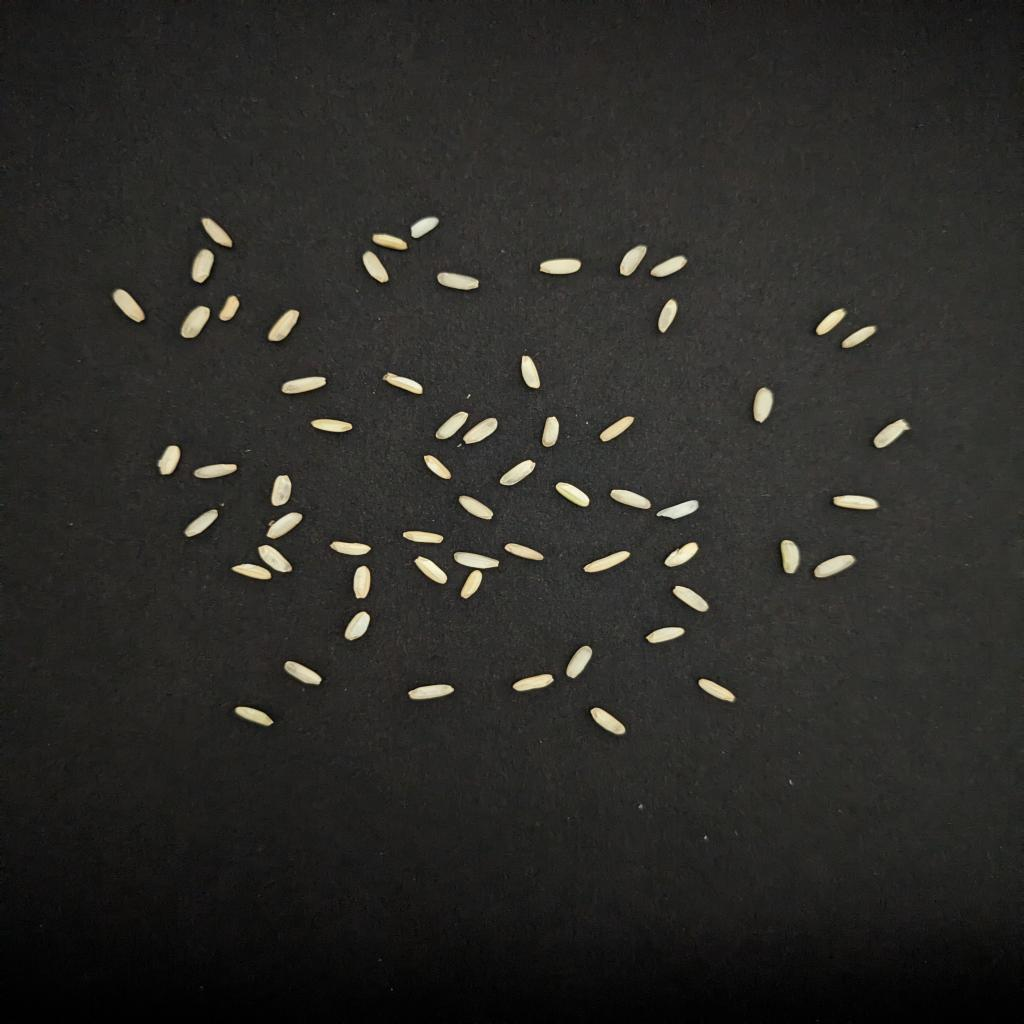chalky: (112, 290, 146, 322), (874, 420, 911, 448), (266, 512, 304, 538), (591, 708, 626, 736), (434, 412, 469, 440), (285, 660, 322, 686), (815, 554, 855, 578), (583, 552, 631, 572), (184, 510, 218, 538), (269, 310, 298, 342), (181, 306, 210, 338), (599, 416, 634, 442), (674, 586, 709, 612), (463, 418, 498, 444), (258, 546, 293, 572), (202, 218, 232, 248), (815, 308, 847, 336), (698, 678, 735, 702), (501, 460, 535, 486), (384, 372, 424, 394), (416, 556, 447, 584), (362, 250, 389, 282), (610, 490, 653, 510), (663, 542, 698, 566), (458, 496, 493, 520), (621, 244, 647, 276), (565, 646, 591, 678), (192, 250, 216, 284), (650, 256, 687, 278), (234, 706, 274, 726), (282, 376, 325, 394), (557, 482, 589, 506), (437, 272, 479, 290), (842, 326, 876, 348), (344, 612, 370, 640), (834, 494, 879, 510), (658, 500, 698, 518), (514, 674, 554, 692), (503, 542, 543, 560), (453, 552, 498, 568), (408, 684, 453, 700), (647, 626, 685, 644), (157, 446, 181, 474), (780, 540, 799, 574), (541, 258, 581, 274), (232, 564, 272, 580), (410, 216, 439, 238), (272, 476, 293, 506), (424, 456, 450, 480), (754, 388, 772, 422), (658, 300, 677, 332), (522, 356, 541, 388), (402, 530, 445, 544), (194, 464, 237, 478), (461, 570, 482, 598), (218, 296, 240, 322), (373, 234, 408, 250), (330, 542, 370, 556), (312, 418, 352, 432), (541, 416, 559, 446), (354, 566, 370, 598)
